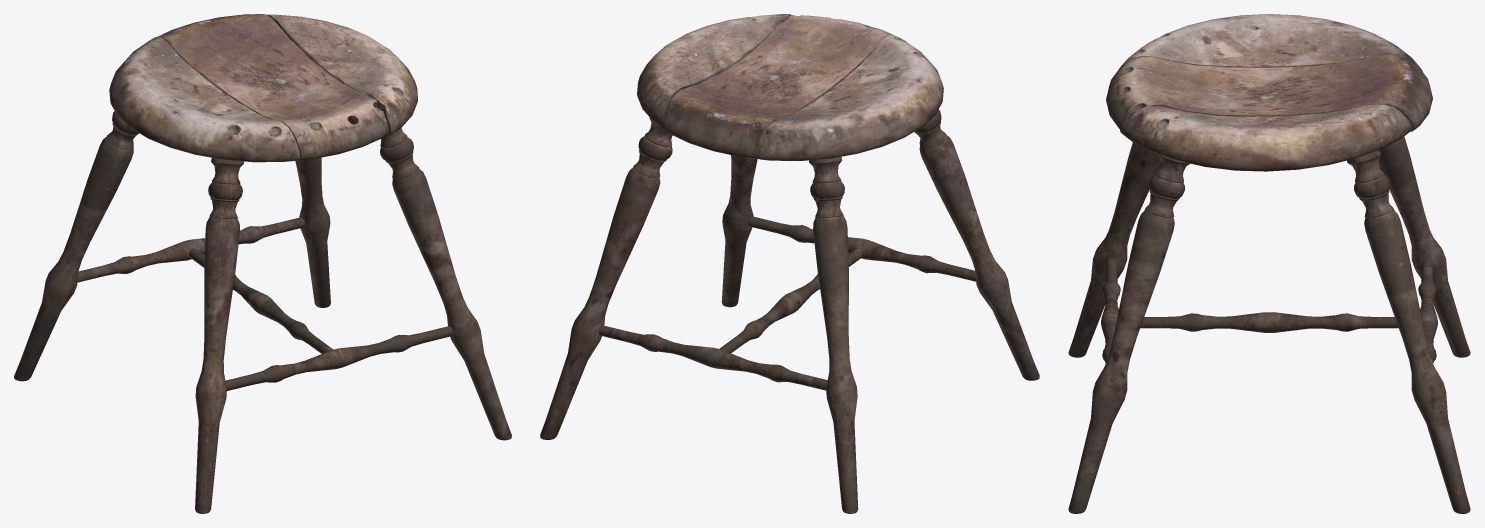
The model's file is wooden_stool_01.glb.
3 renders of one model, left to right at view 1: azimuth 30°, elevation 25°; view 2: azimuth 150°, elevation 25°; view 3: azimuth 270°, elevation 25°, orthographic. The views are drawn at different scales.
Parts seen in each view (by area): view 1: wooden_stool_01; view 2: wooden_stool_01; view 3: wooden_stool_01.
Part boxes in pixels (x1=…): wooden_stool_01: x1=14, y1=14, x2=511, y2=513; wooden_stool_01: x1=540, y1=14, x2=1039, y2=513; wooden_stool_01: x1=1068, y1=14, x2=1470, y2=513.
Bounding box in the file's own units: 0.4254 × 0.4373 × 0.4424.
1 material, 1 textured.
